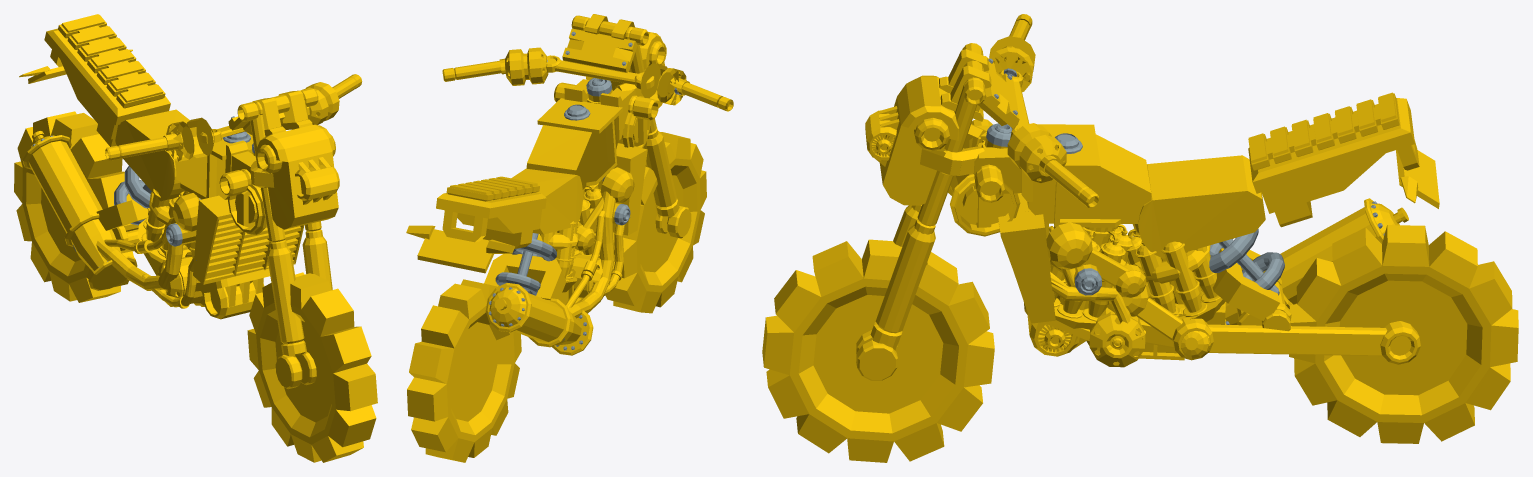
Rendered from moto2.glb.
3 renders of one model, left to right at view 1: azimuth 30°, elevation 25°; view 2: azimuth 150°, elevation 25°; view 3: azimuth 270°, elevation 25°, orthographic. The views are drawn at different scales.
Visible parts, largest first — view 1: group863078923, group1070595840, group1999930739, group1907024249, group1274845773, group874544943, group1151165594, group1811478742, group1899936356, group907782862, group460252570, group2045958440 (+21 smaller); view 2: group1070595840, group863078923, group1999930739, group2045958440, group1907024249, group1899936356, group1811478742, group874544943, group76136724, group1532828329, group1946479261, group2072361596 (+16 smaller); view 3: group863078923, group1070595840, group1999930739, group1811478742, group2045958440, group1654749086, group1274845773, group1694237259, group1346244026, group993139604, group1907024249, group958845586 (+21 smaller).
Boxes of the visible parts, <box> form: group863078923: <box>247,272,377,462</box>; group1070595840: <box>14,111,134,302</box>; group1999930739: <box>44,14,170,146</box>; group1907024249: <box>22,131,137,290</box>; group1274845773: <box>257,124,338,229</box>; group874544943: <box>267,247,316,389</box>; group1151165594: <box>193,195,244,284</box>; group1811478742: <box>115,109,189,201</box>; group1899936356: <box>73,198,200,308</box>; group907782862: <box>237,88,318,136</box>; group460252570: <box>195,268,270,319</box>; group2045958440: <box>175,132,253,199</box>; group1070595840: <box>407,279,521,462</box>; group863078923: <box>605,132,706,313</box>; group1999930739: <box>436,176,546,248</box>; group2045958440: <box>527,98,622,189</box>; group1907024249: <box>485,283,593,355</box>; group1899936356: <box>562,177,630,341</box>; group1811478742: <box>511,168,582,234</box>; group874544943: <box>643,131,691,238</box>; group76136724: <box>562,28,637,72</box>; group1532828329: <box>417,229,493,273</box>; group1946479261: <box>554,79,658,140</box>; group2072361596: <box>484,253,566,300</box>; group863078923: <box>762,239,994,462</box>; group1070595840: <box>1289,225,1518,443</box>; group1999930739: <box>1248,92,1419,227</box>; group1811478742: <box>1138,155,1265,258</box>; group2045958440: <box>1027,124,1151,227</box>; group1654749086: <box>1172,317,1420,364</box>; group1274845773: <box>879,75,959,205</box>; group1694237259: <box>1126,224,1225,321</box>; group1346244026: <box>856,224,935,380</box>; group993139604: <box>998,211,1055,323</box>; group1907024249: <box>1225,198,1408,324</box>; group958845586: <box>1046,222,1146,297</box>.
Bounding box in the file's own units: 3 × 3.36 × 5.8.
